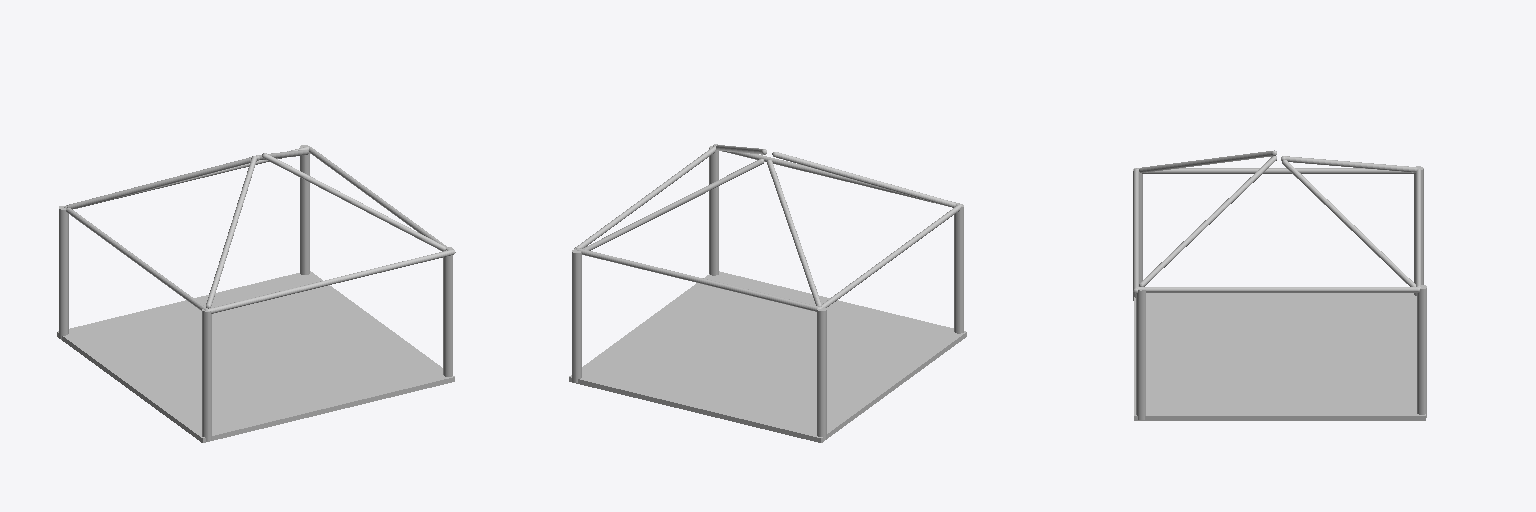
File: MetalBase.obj
3 views of the same model, side by side, from view 1: azimuth 30°, elevation 25°; view 2: azimuth 150°, elevation 25°; view 3: azimuth 270°, elevation 25° (orthographic).
Bounding box in the file's own units: 411 × 318 × 411.